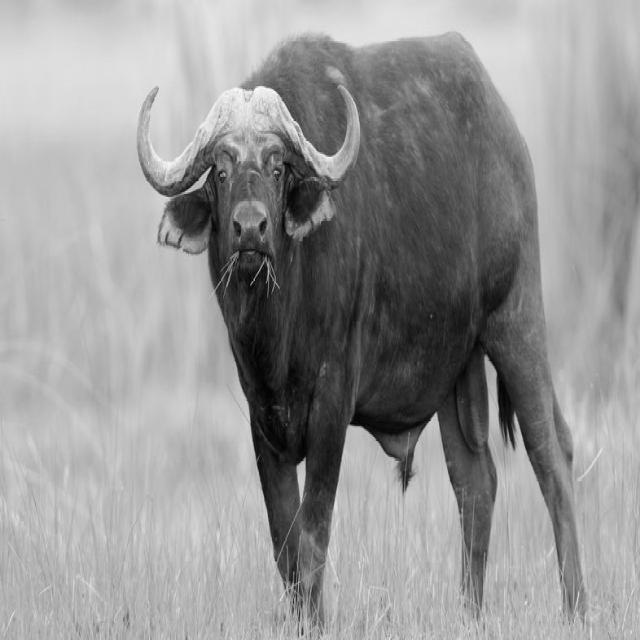Buffalo: (137, 29, 592, 638)
